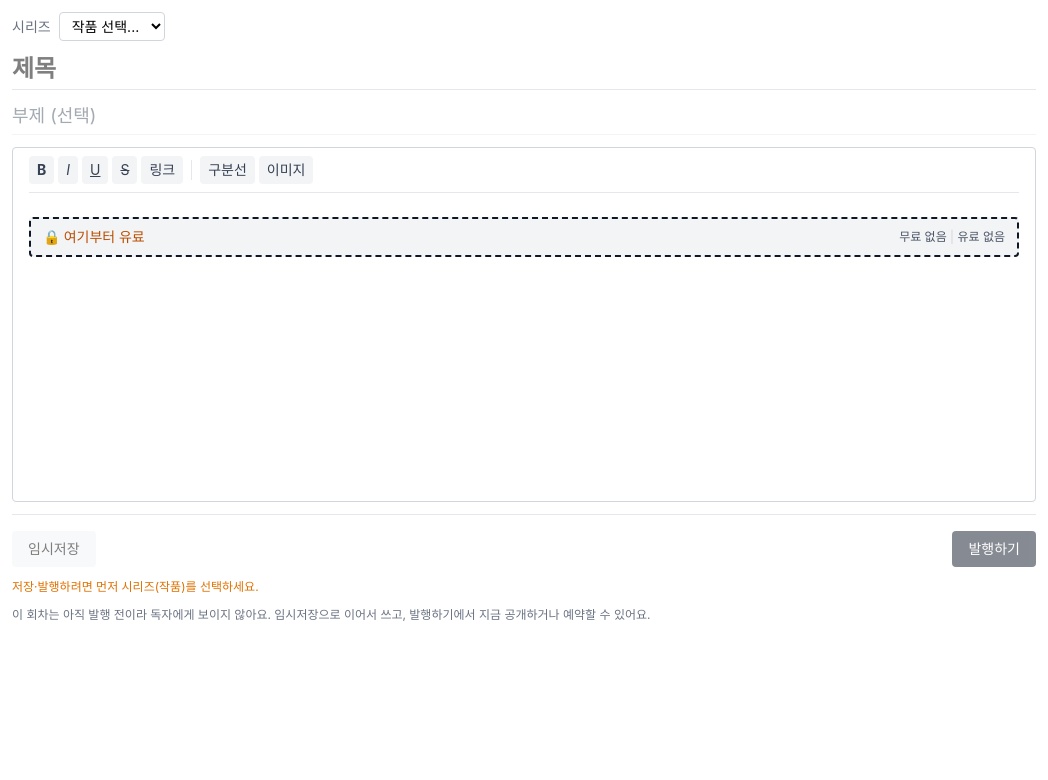
Test: EpisodeEditor › 글로벌 진입: 작품 선택 전엔 저장·발행 비활성, 선택하면 활성화
The width and height of the screenshot is (1048, 780).
Check: the button "이미지" is shown, box [259,156,313,184]
Check: the button "임시저장" is disabled, box [12,531,96,567]
Select "작품A" in the dropdown at {"x": 112, "y": 26}, box [59,12,165,41]
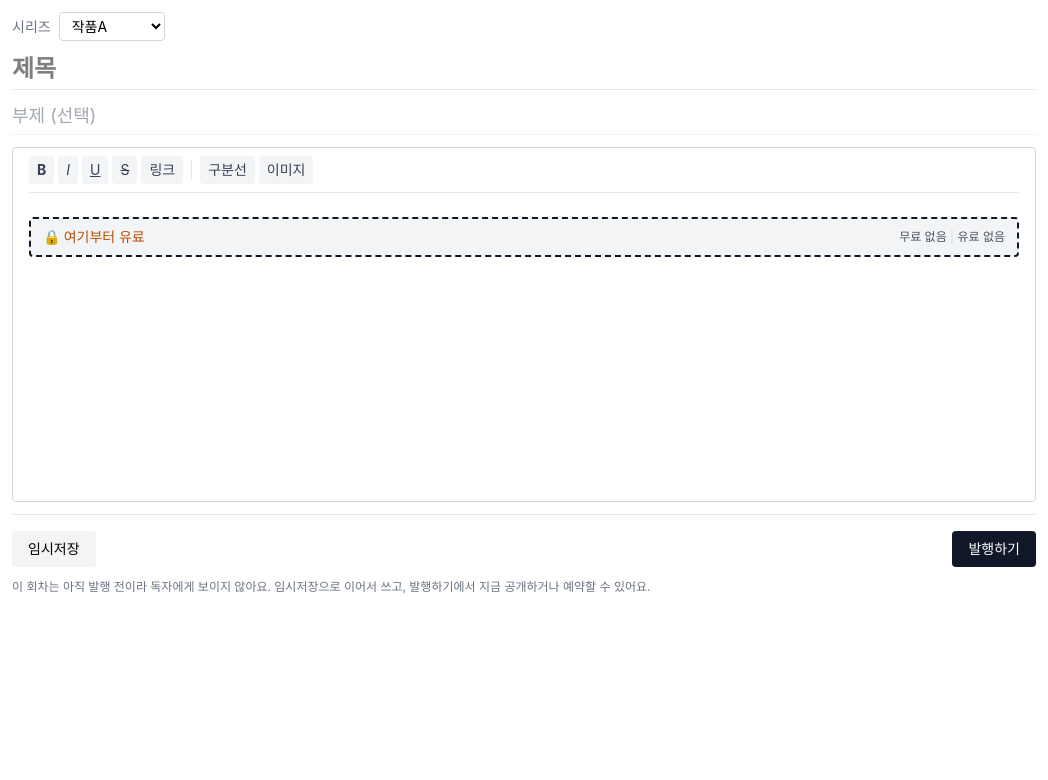
Check: the button "임시저장" is enabled, box [12,531,96,567]
